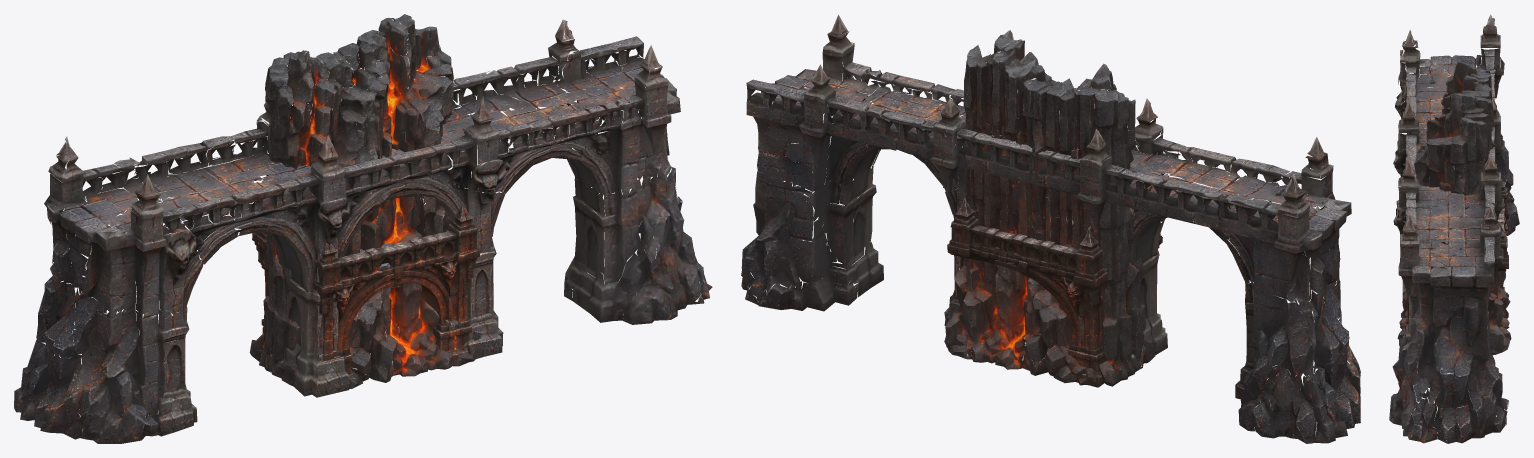
Rendered from puente.glb.
3 views of the same model, side by side, from view 1: azimuth 30°, elevation 25°; view 2: azimuth 150°, elevation 25°; view 3: azimuth 270°, elevation 25° (orthographic). The views are drawn at different scales.
Visible parts, largest first — view 1: puente_lejano, acantilado, tramo_puente; view 2: puente_lejano, acantilado, tramo_puente; view 3: puente_lejano, acantilado, tramo_puente.
Boxes of the visible parts, box(x1,y1,x2,y2) form: puente_lejano: box(14, 19, 712, 443); acantilado: box(249, 14, 481, 389); tramo_puente: box(252, 201, 479, 388); puente_lejano: box(741, 14, 1360, 443); acantilado: box(944, 30, 1159, 386); tramo_puente: box(947, 188, 1162, 387); puente_lejano: box(1389, 14, 1519, 443); acantilado: box(1397, 60, 1511, 355); tramo_puente: box(1401, 174, 1508, 331).
Bounding box in the file's own units: 34 × 16 × 7.66.
Materials: 6 (6 with a texture image).
